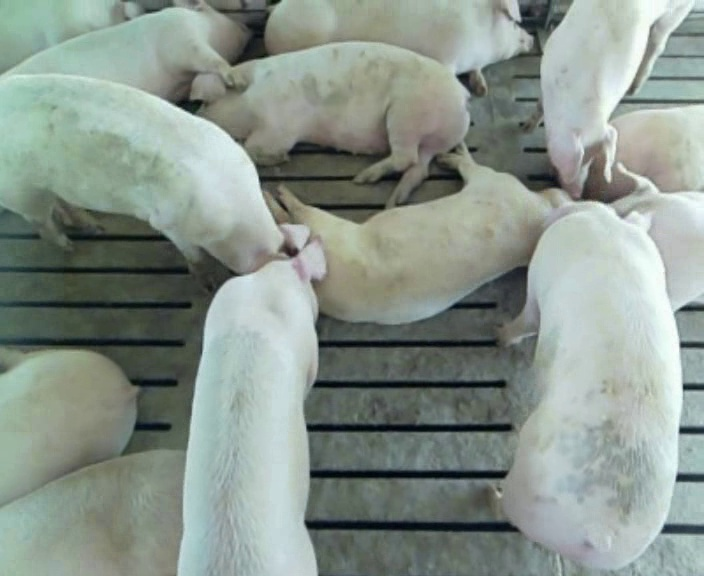pig: (488, 202, 681, 568), (263, 148, 568, 323), (180, 239, 325, 574), (190, 43, 468, 206), (521, 2, 692, 197), (265, 2, 532, 95), (0, 450, 184, 574), (610, 162, 703, 309), (0, 2, 140, 72)
